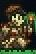zombie: (0, 1, 36, 54)
